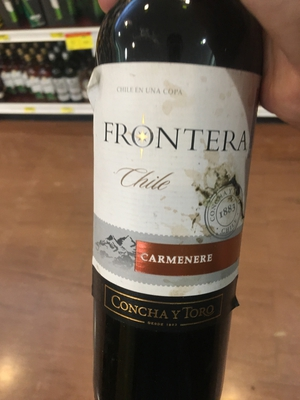frontera carmenere: (80, 27, 270, 400)
